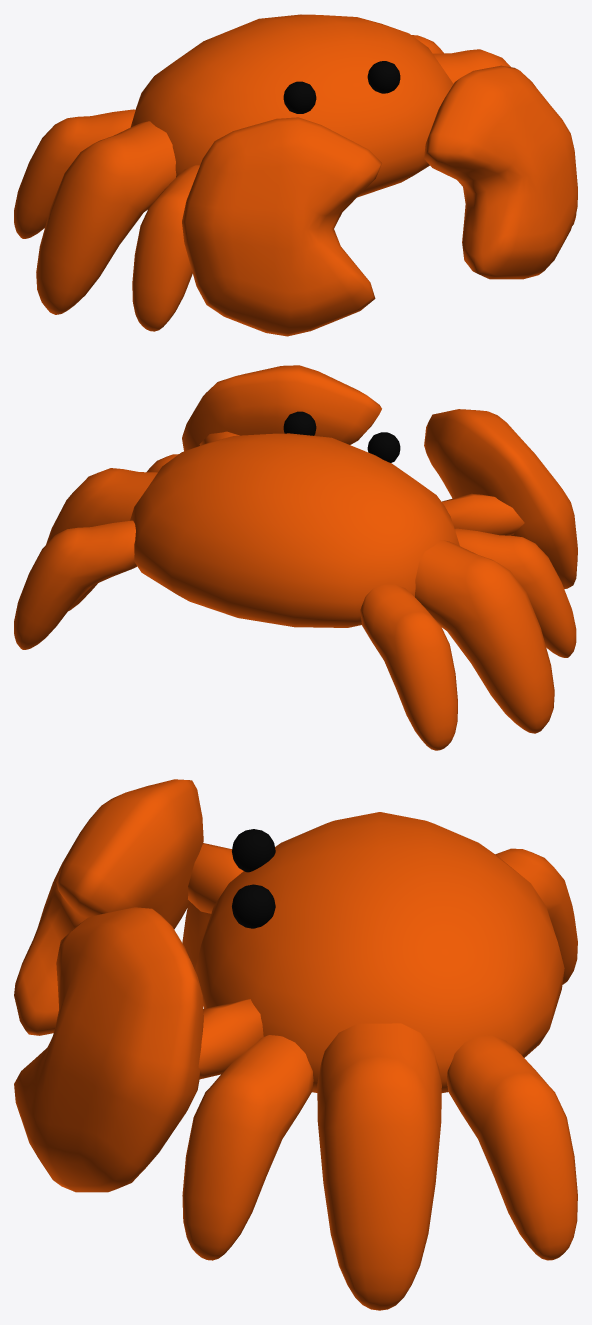
The model's file is crab.fbx.
The picture shows the model from 3 angles, top to bottom: view 1: azimuth 30°, elevation 25°; view 2: azimuth 150°, elevation 25°; view 3: azimuth 270°, elevation 25°; orthographic projection. The views are drawn at different scales.
Parts seen in each view (by area): view 1: Crab1; view 2: Crab1; view 3: Crab1.
Boxes of the visible parts, x1=… form: Crab1: x1=14, y1=14, x2=577, y2=336; Crab1: x1=14, y1=365, x2=577, y2=750; Crab1: x1=14, y1=779, x2=577, y2=1310.
Bounding box in the file's own units: 1.97 × 0.8383 × 1.41.
